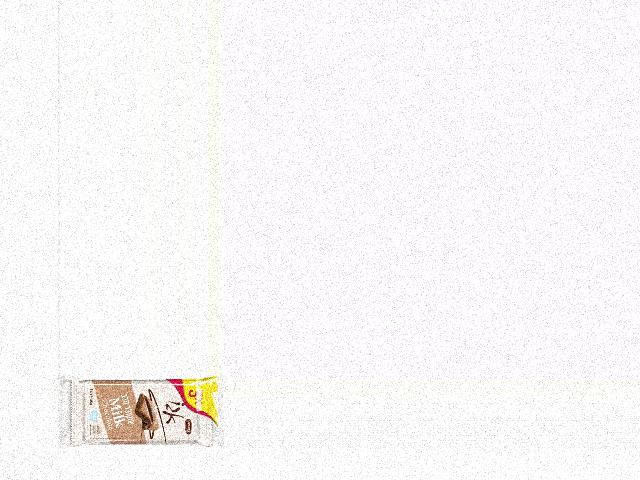chocolate: (73, 375, 224, 449)
